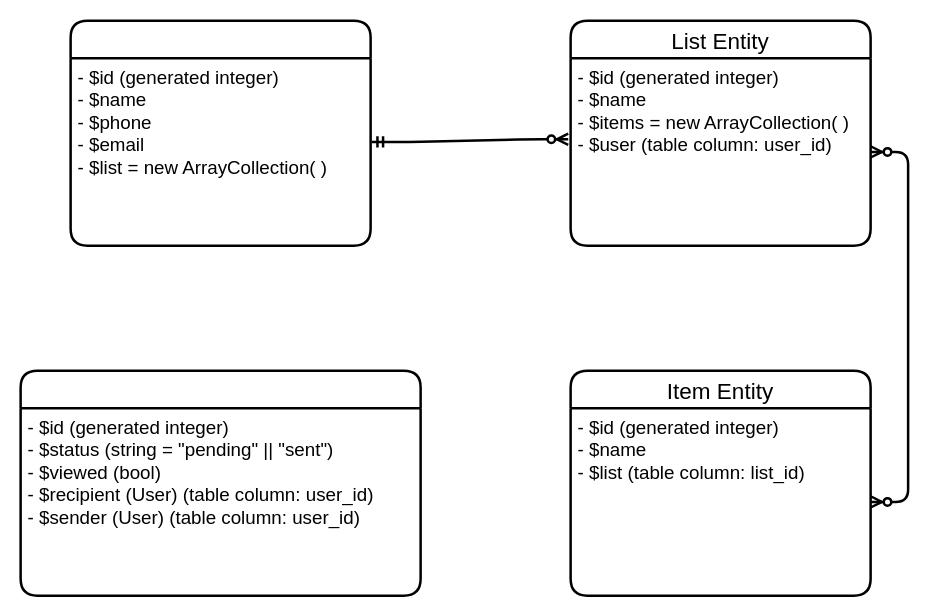
Some shapes in this 929 by 616 pixel diagram are drawn without their labels. Here are the shapes that lost their labels. From the top down, the box of each, then its label:
(69, 19, 371, 246): User Entity
(19, 369, 421, 596): Share Entity
